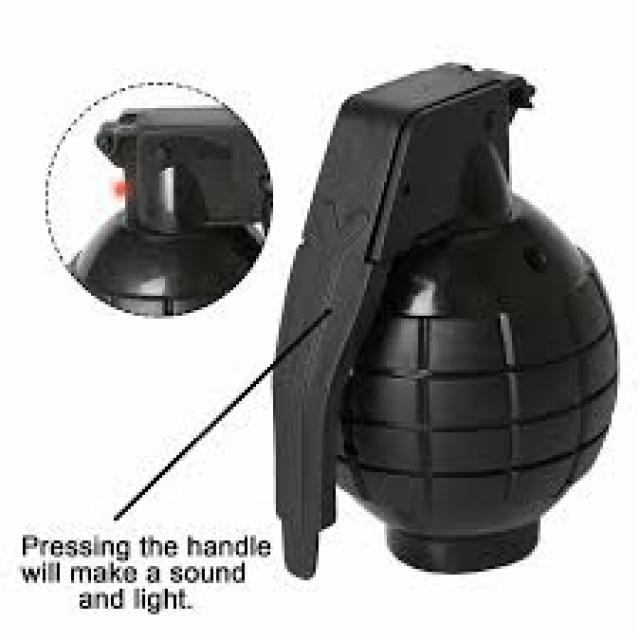grenade: (265, 49, 633, 584)
